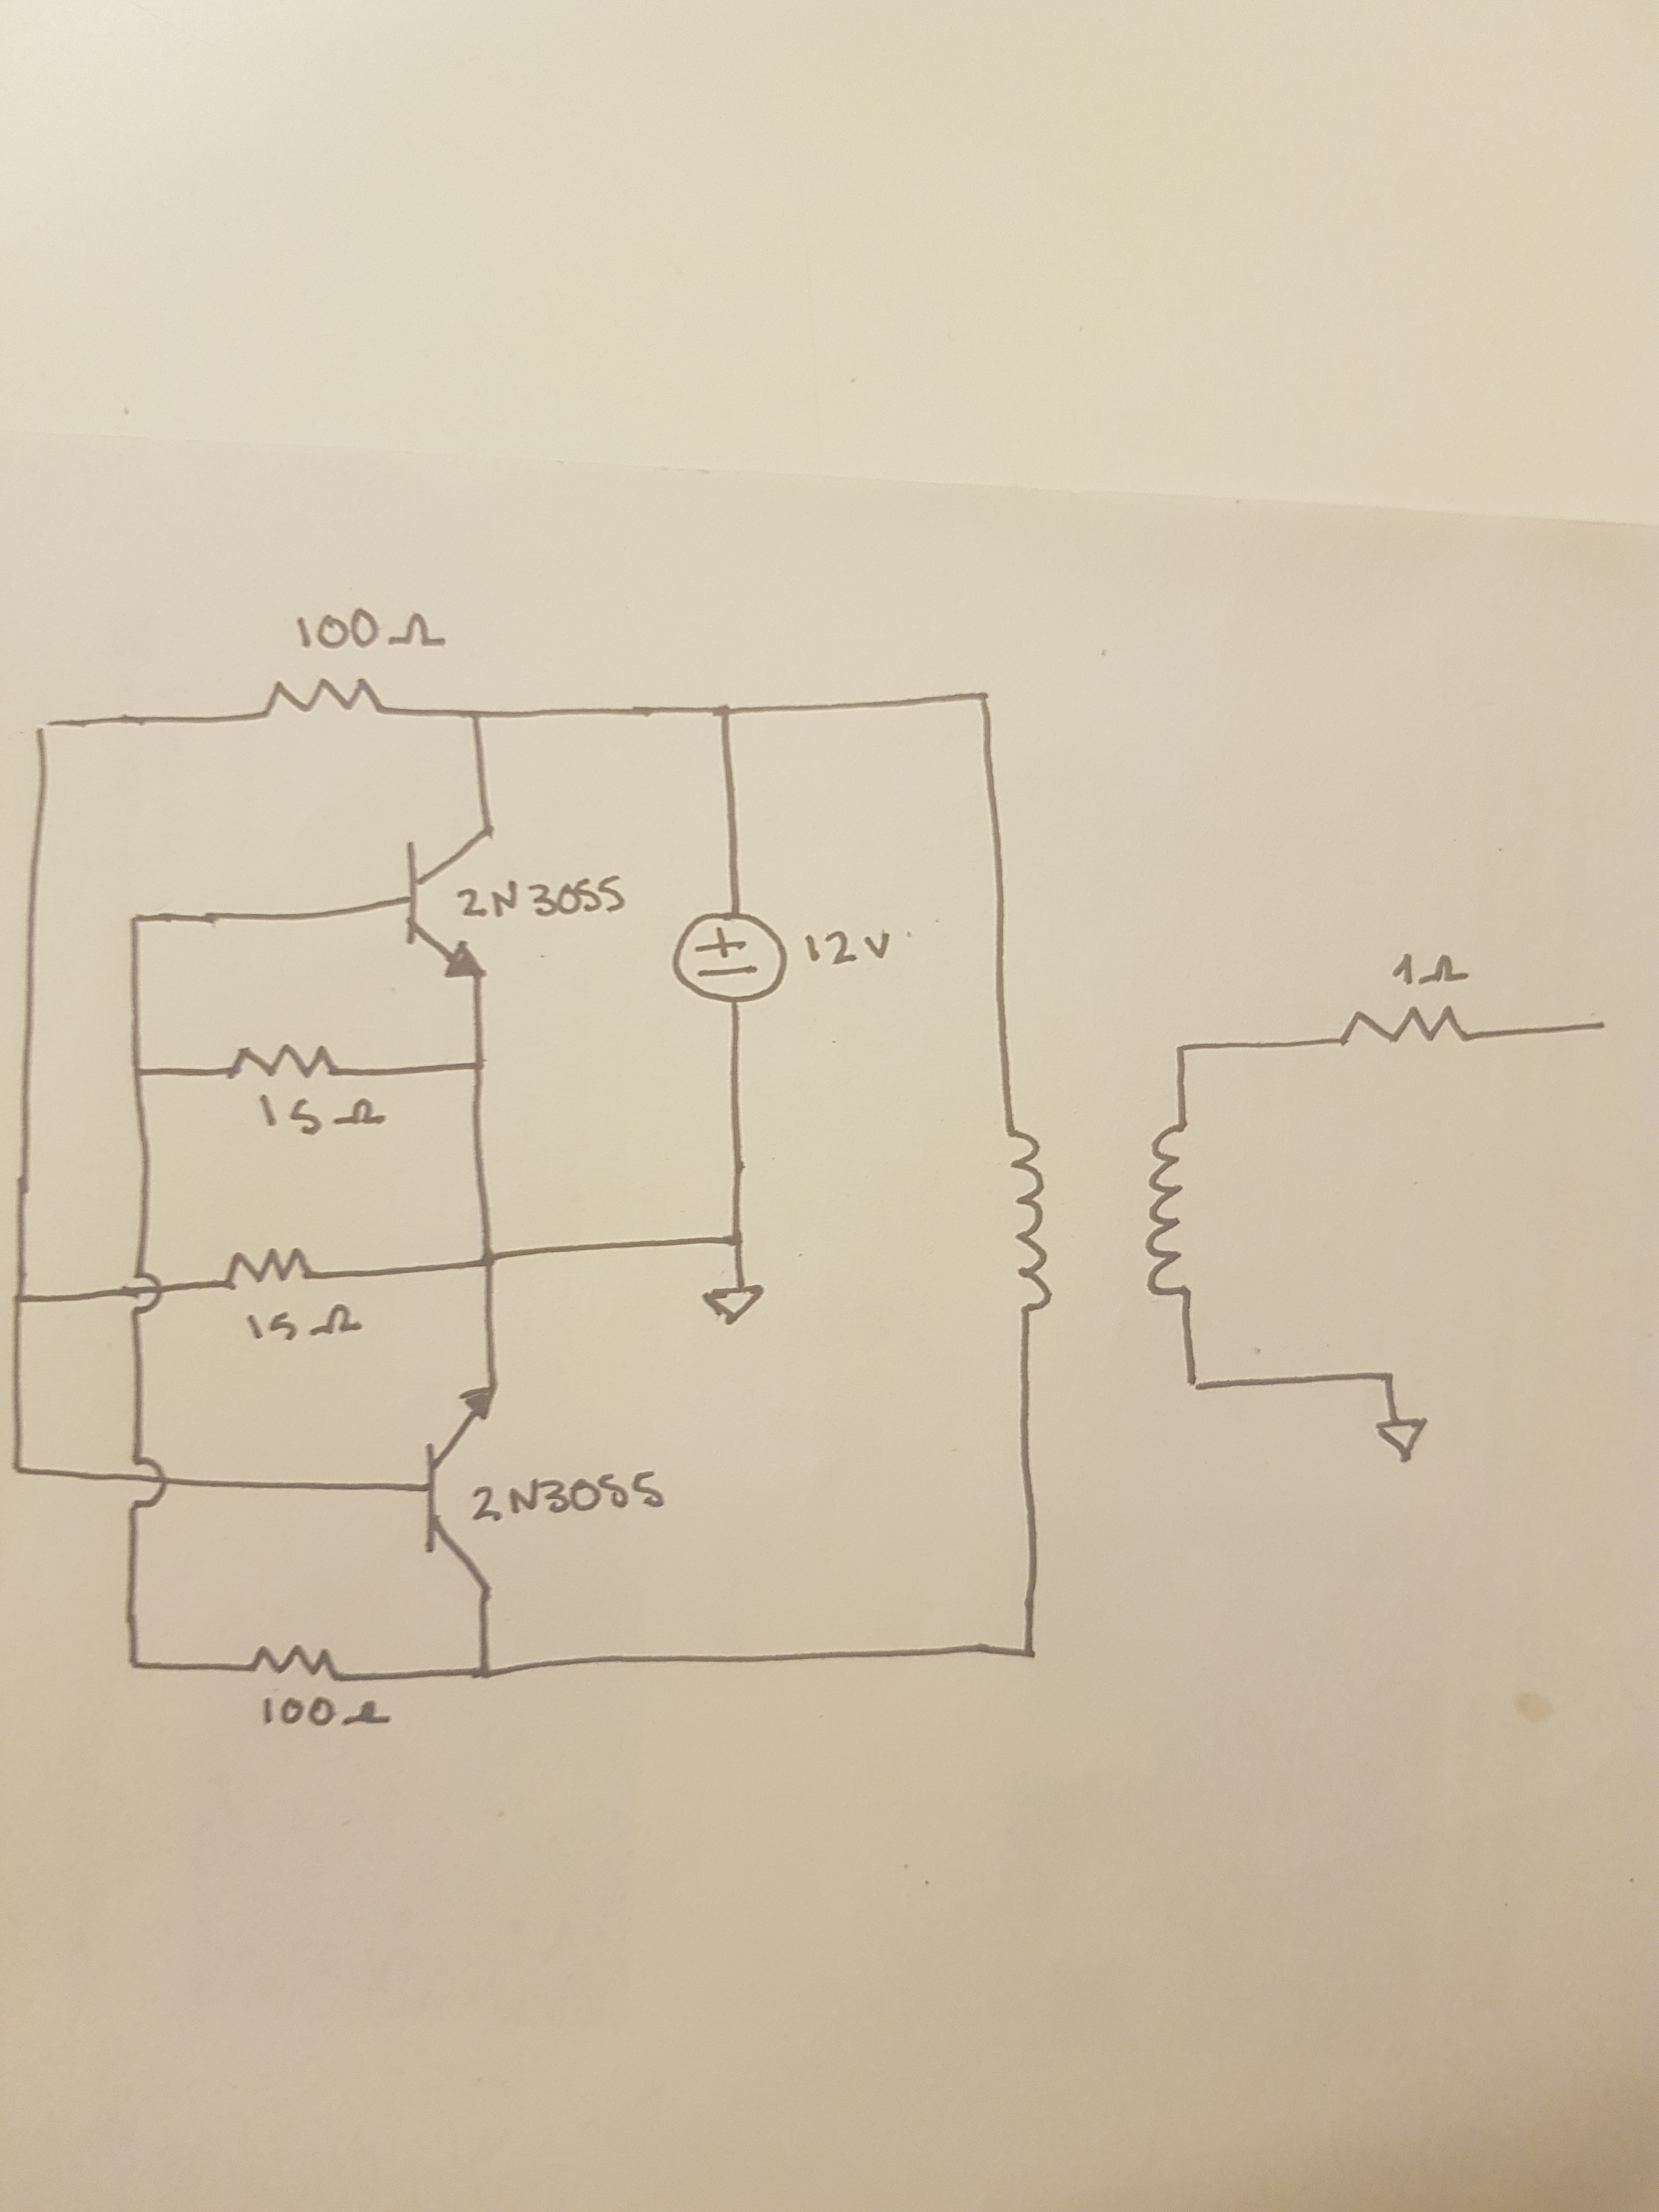crossover: (120, 1456, 169, 1514), (124, 1266, 164, 1322)
gnd: (697, 1275, 772, 1331), (1370, 1411, 1432, 1468)
junction: (467, 1244, 509, 1280), (119, 906, 157, 942), (464, 1655, 498, 1691), (1009, 1634, 1044, 1669), (460, 1052, 495, 1087), (965, 683, 1002, 716), (120, 1057, 157, 1089), (1178, 1369, 1209, 1404), (706, 698, 742, 728), (117, 1649, 150, 1681), (462, 704, 491, 732), (7, 1284, 35, 1313), (7, 1453, 33, 1482), (30, 712, 56, 740), (1377, 1364, 1401, 1392), (720, 1228, 748, 1252), (1171, 1040, 1194, 1062)
resistor: (254, 672, 389, 725), (1338, 1003, 1473, 1054), (214, 1245, 324, 1298), (221, 1042, 345, 1082), (247, 1641, 340, 1688)
terminal: (1586, 1012, 1617, 1035)
text: (455, 871, 627, 928), (465, 1470, 666, 1519), (291, 604, 450, 655), (235, 1296, 366, 1343), (254, 1092, 392, 1132), (258, 1695, 396, 1730), (800, 925, 897, 974), (1385, 946, 1476, 993)
transformer: (995, 1111, 1208, 1327)
transistor: (415, 1372, 512, 1604), (392, 822, 509, 988)
voltage.dc: (664, 909, 791, 1008)
